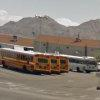Bus: (2, 43, 69, 75)
